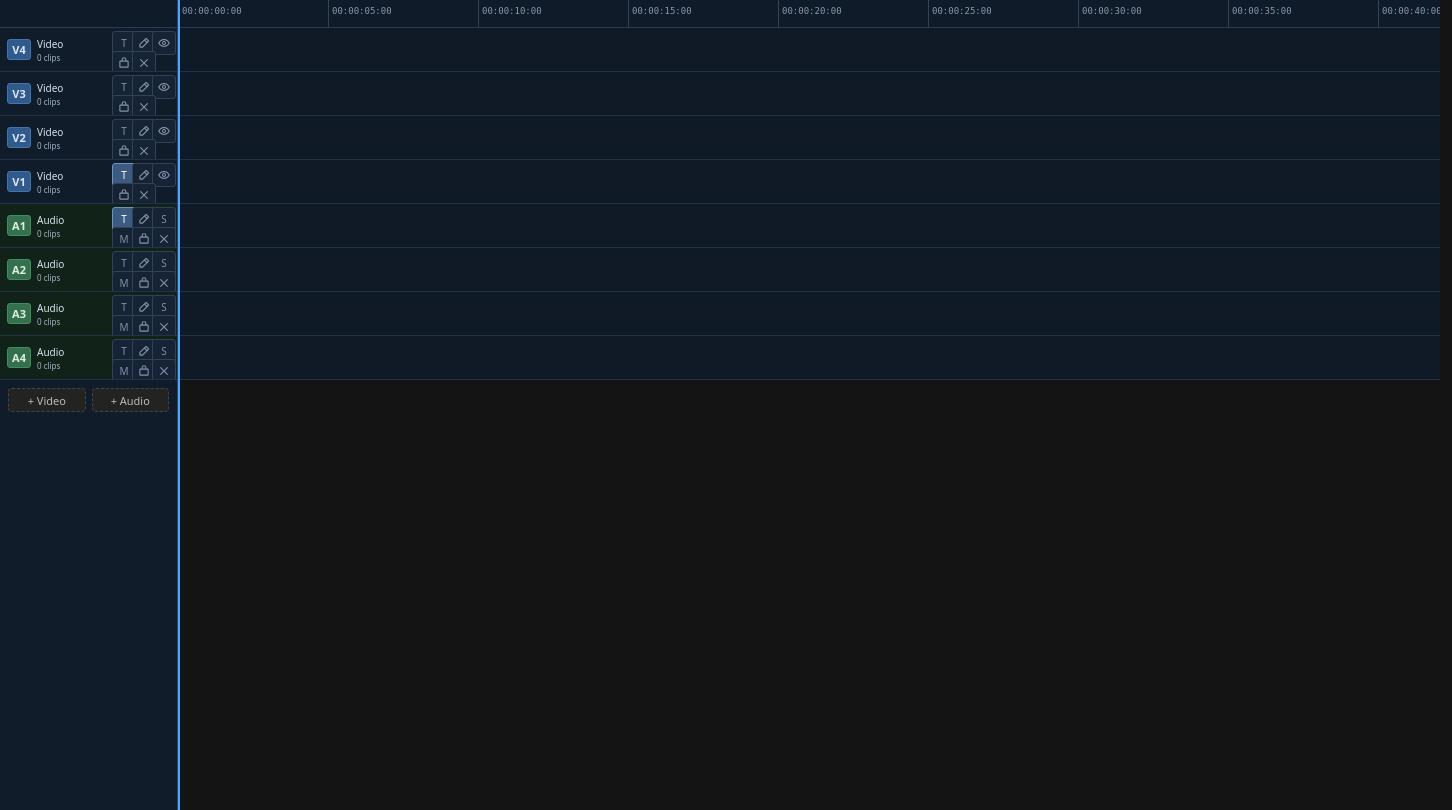
Test: add-track buttons › a fresh four-by-four stack continues with V5 and A5
Click the button with aria-label "add video track" at x=47, y=400, box [8, 388, 86, 412]
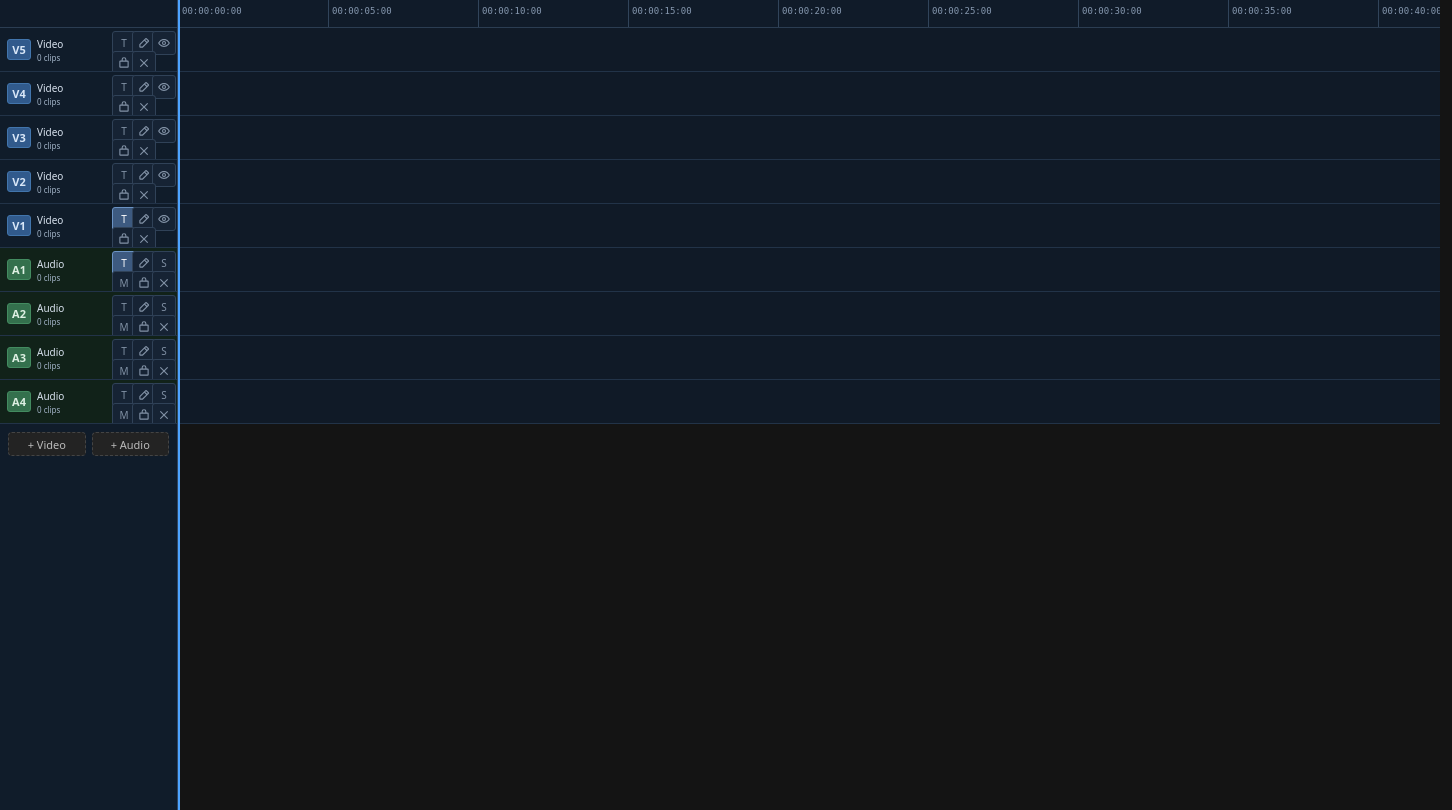
Click the button with aria-label "add audio track" at x=130, y=444, box [92, 432, 169, 456]
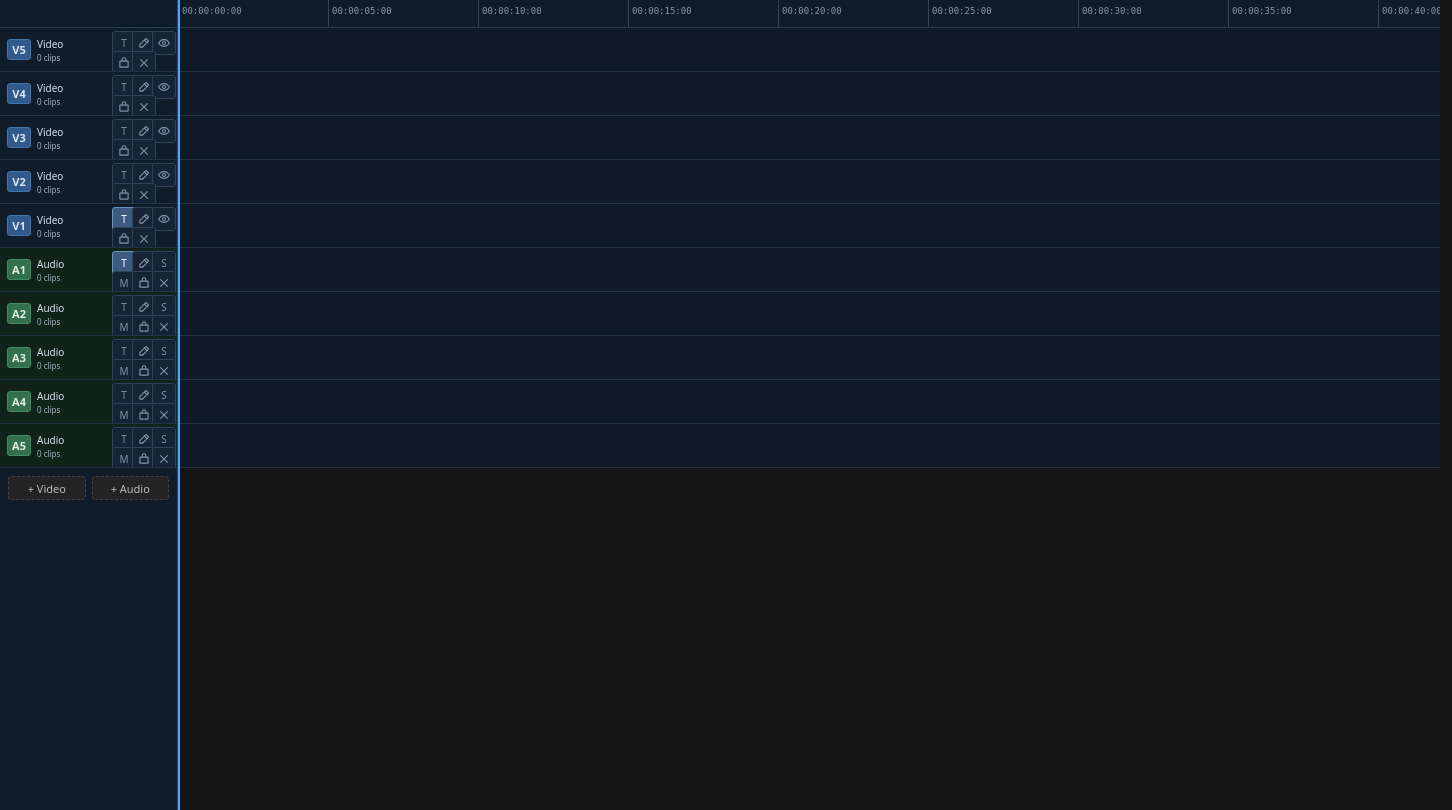
Expected: the element with test id "track-header-V5" is shown, [0, 28, 177, 72]
Expected: the element with test id "track-header-A5" is shown, [0, 424, 177, 468]
